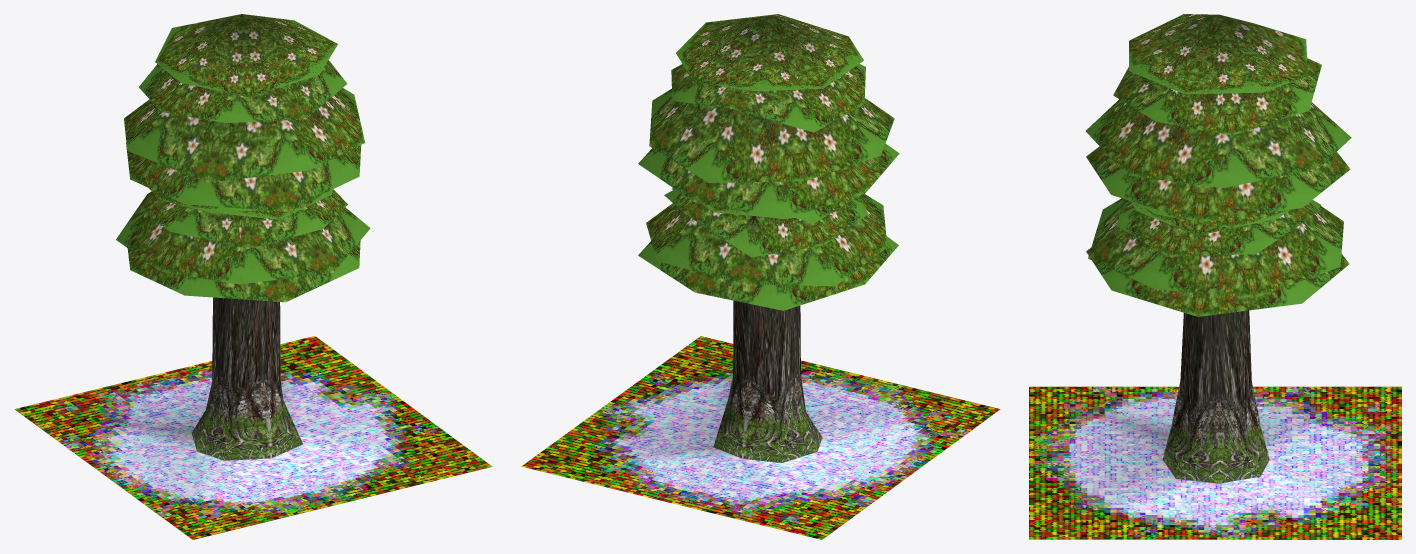
File: summoning_tree_2_base.glb
3 renders of one model, left to right at view 1: azimuth 30°, elevation 25°; view 2: azimuth 150°, elevation 25°; view 3: azimuth 270°, elevation 25°, orthographic. The views are drawn at different scales.
Visible parts, largest first — view 1: MeshRoot; view 2: MeshRoot; view 3: MeshRoot.
Boxes of the visible parts, x1,y1,x2,y2 form: MeshRoot: [14, 14, 492, 539]; MeshRoot: [521, 14, 1000, 539]; MeshRoot: [1029, 14, 1401, 539].
Bounding box in the file's own units: 11.06 × 14.93 × 11.38.
Materials: 2 (2 with a texture image).
